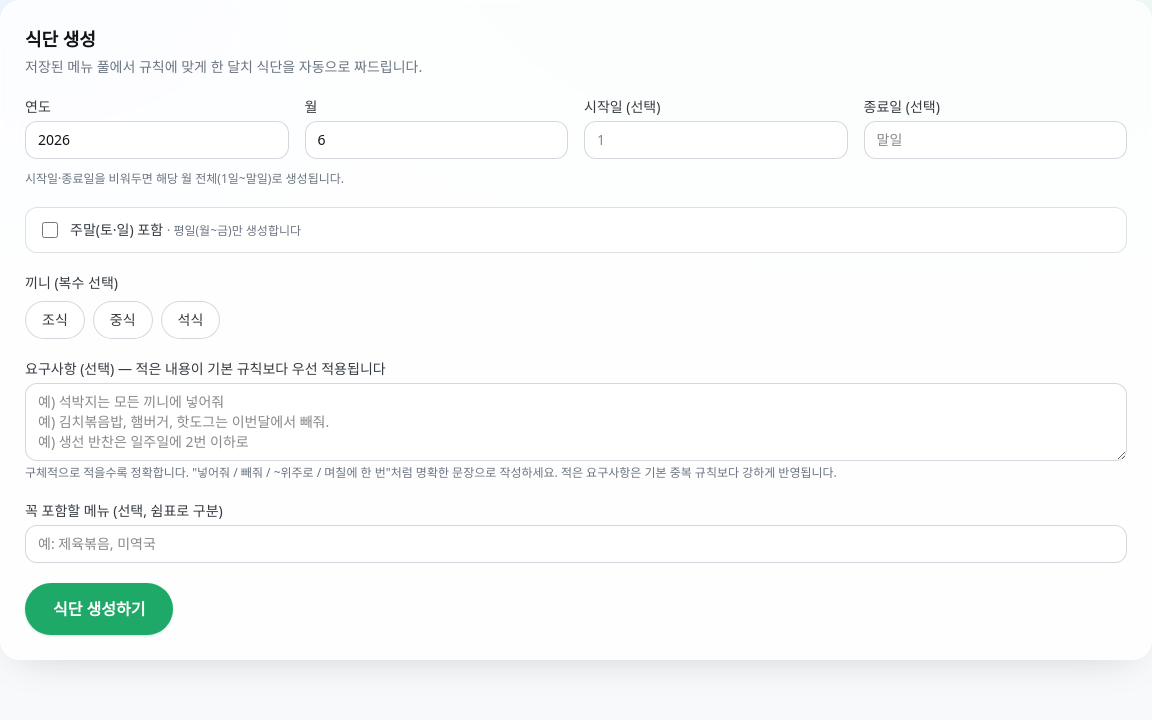
Test: GenerateMealPlanForm › 끼니를 선택하고 생성하면 생성된 식단(끼니·메뉴)이 표시된다
기본은 아무 끼니도 선택 안 됨 → 조식 선택 후 생성
What coordinates should you click on to do the following:
click the button "조식"
I would click on:
 (55, 320)
Its box is left=25, top=301, right=85, bottom=339.
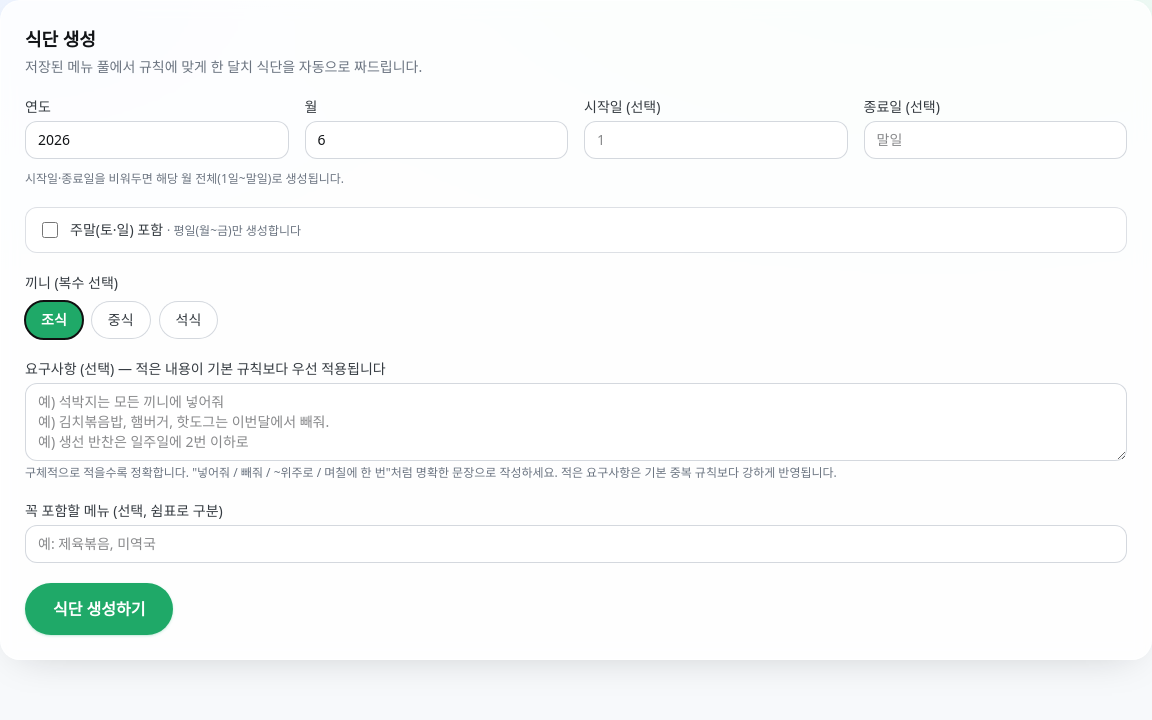
What coordinates should you click on to do the following:
click the button "식단 생성하기"
I would click on:
 (99, 609)
Its box is left=25, top=583, right=174, bottom=635.
(page scrolled)
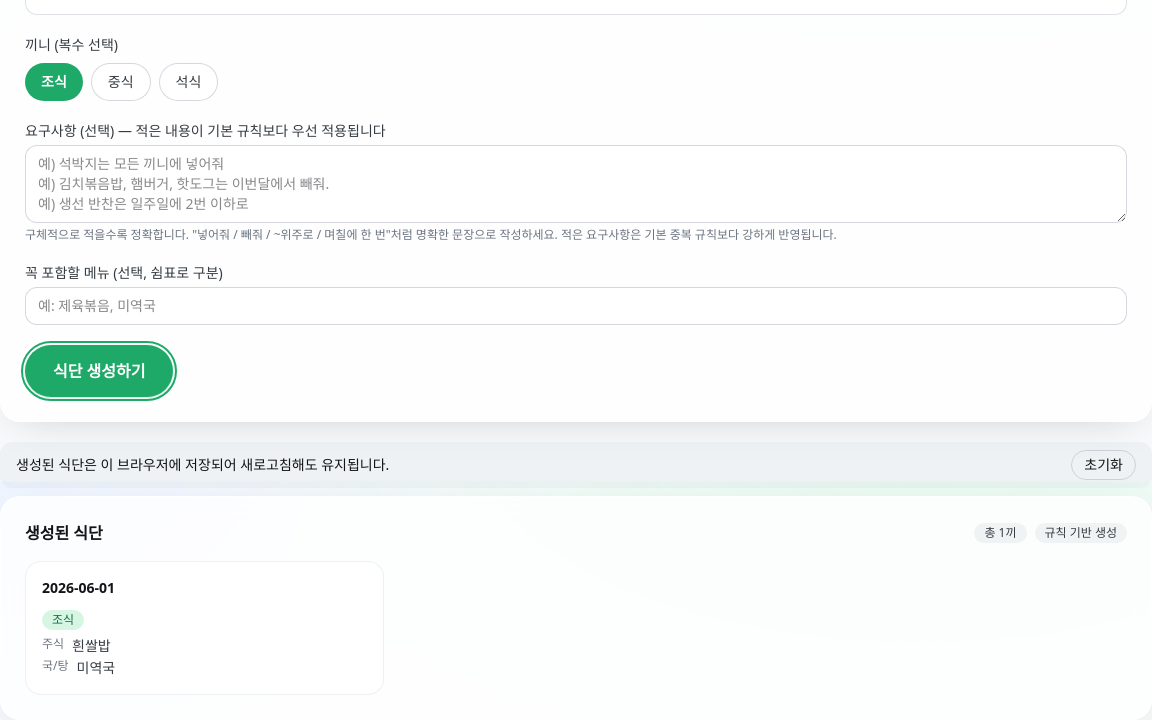
Expected: the heading "생성된 식단" is shown, left=25, top=521, right=103, bottom=545
Expected: the text "2026-06-01" is shown, left=42, top=578, right=115, bottom=597
Expected: the text "흰쌀밥" is shown, left=72, top=636, right=111, bottom=656
